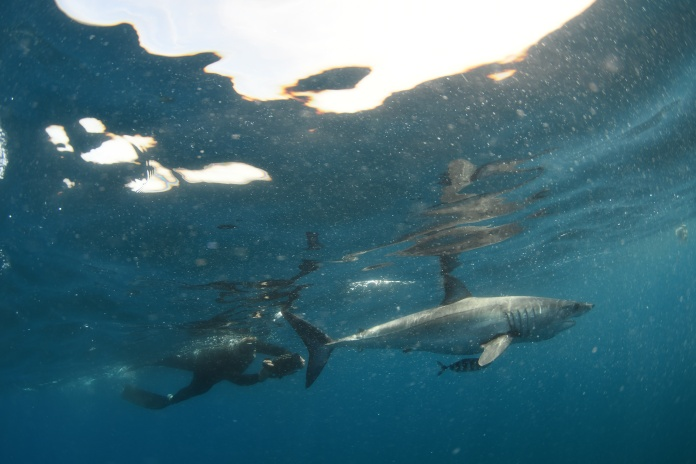Mako: (272, 261, 599, 396)
